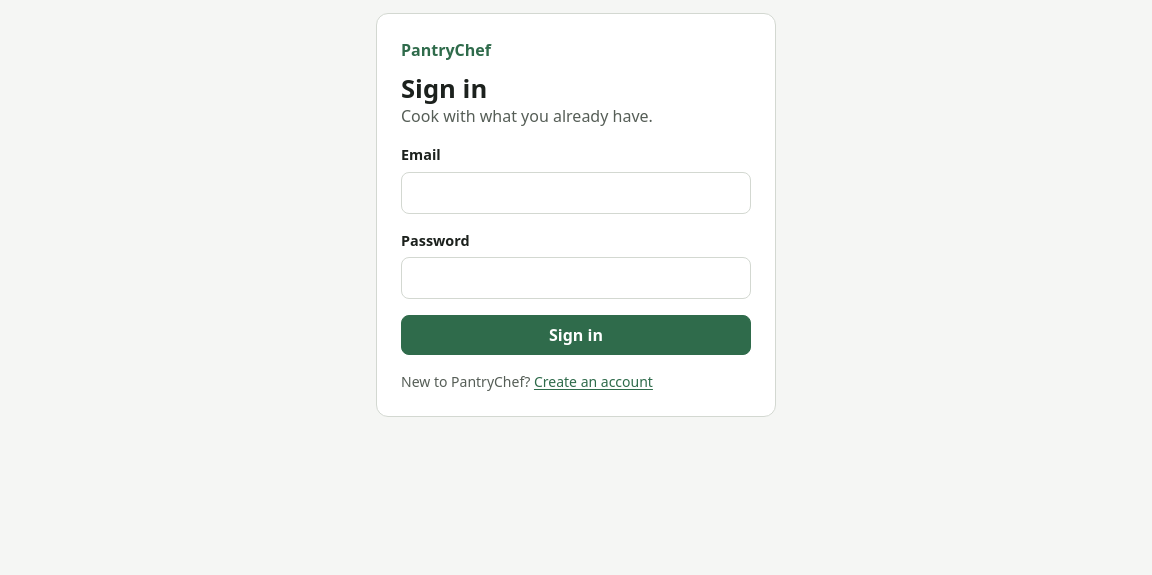
Test case: meal plan › a failed check-off is undone and explained
This screenshot has width=1152, height=575.
Type "cook@example.com" into the field labelled "Email" at coordinates (576, 193), box [401,172,751,214]
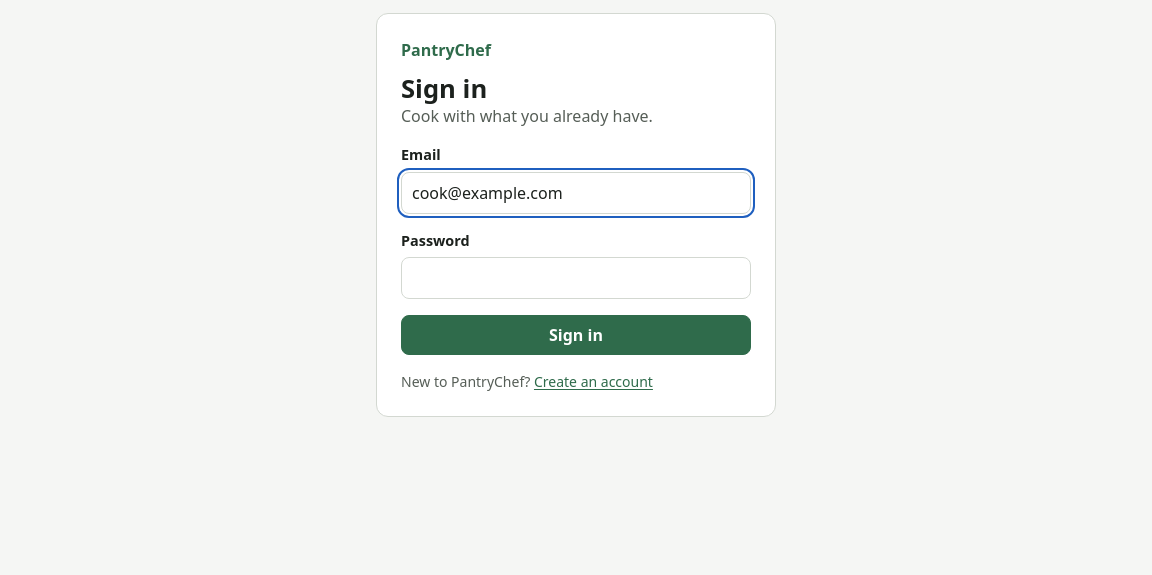
Type "long enough pw" into the password field labelled "Password" at coordinates (576, 278), box [401,258,751,300]
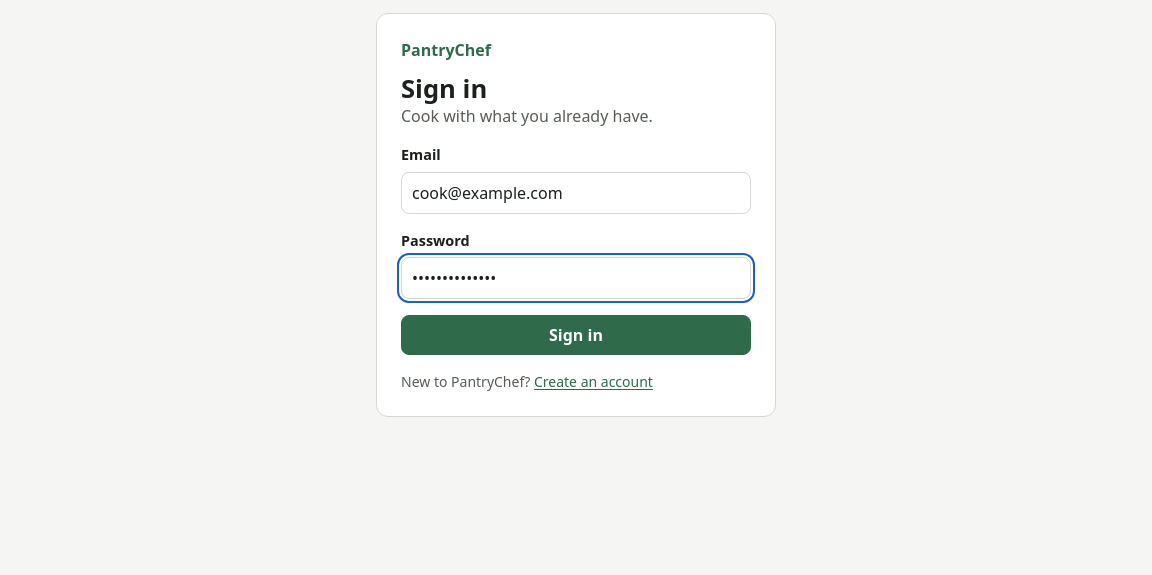
Click the button "Sign in" at coordinates (576, 336), box [401,316,751,356]
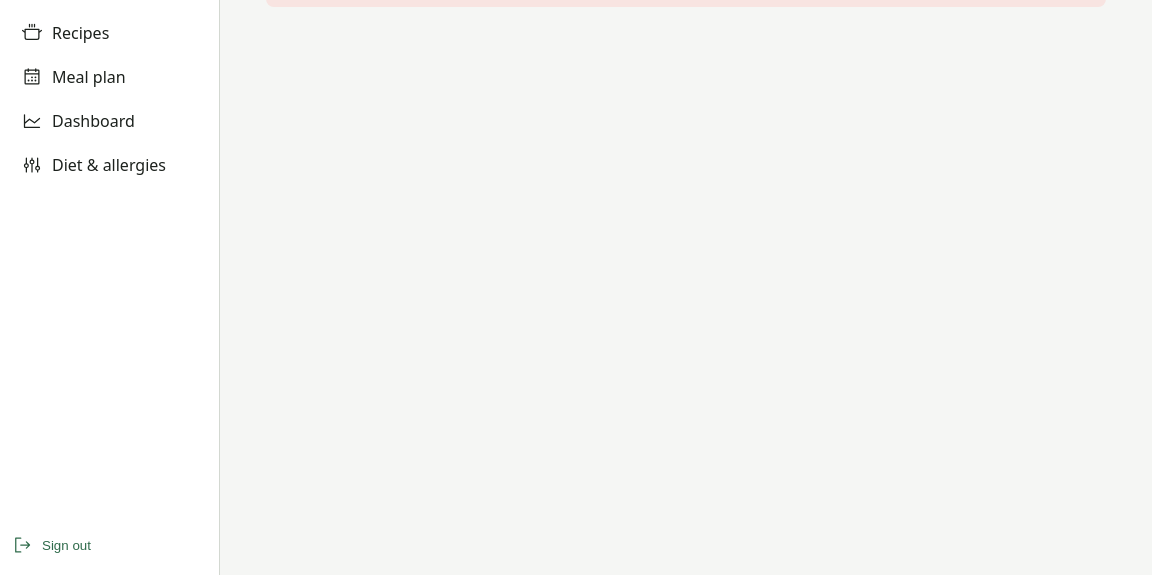
Click the link "Meal plan" at coordinates (74, 77), box [22,66,126,88]
(page scrolled)
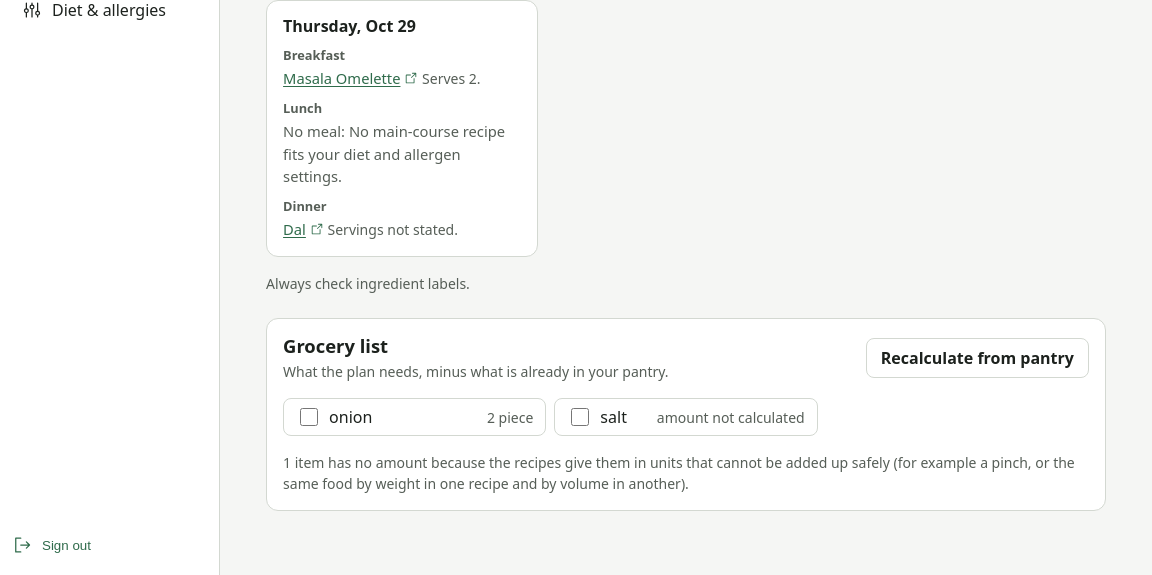
Click the checkbox labelled "onion 2 piece" at coordinates (309, 417), box [300,408,318,426]
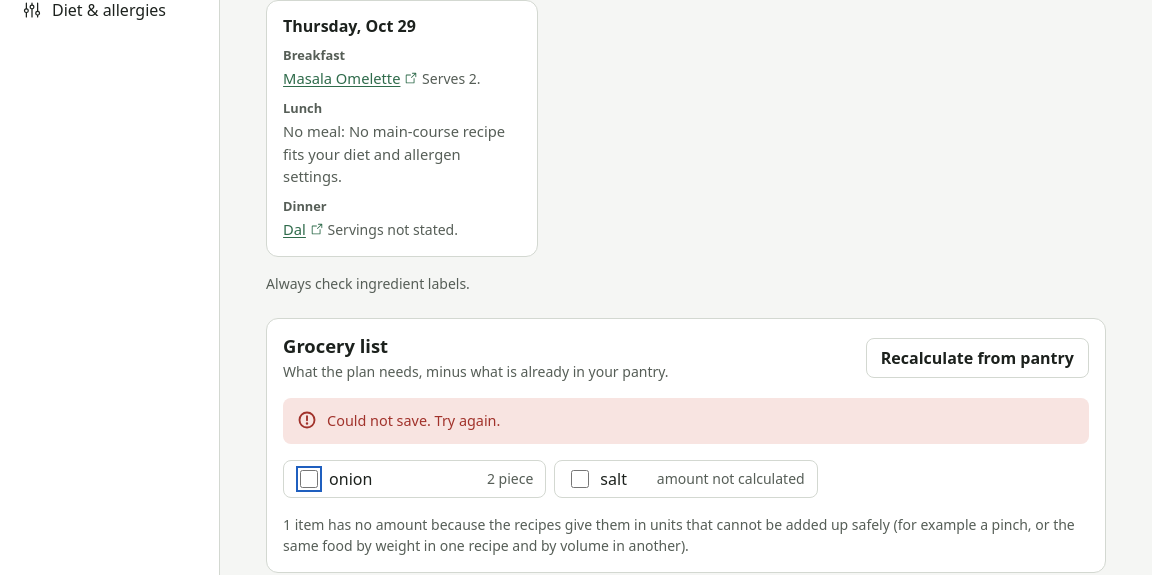
Expected: the checkbox labelled "onion 2 piece" is not checked, [300,470,318,488]
Expected: the text "Could not save. Try again." is shown, [327,410,500,432]
